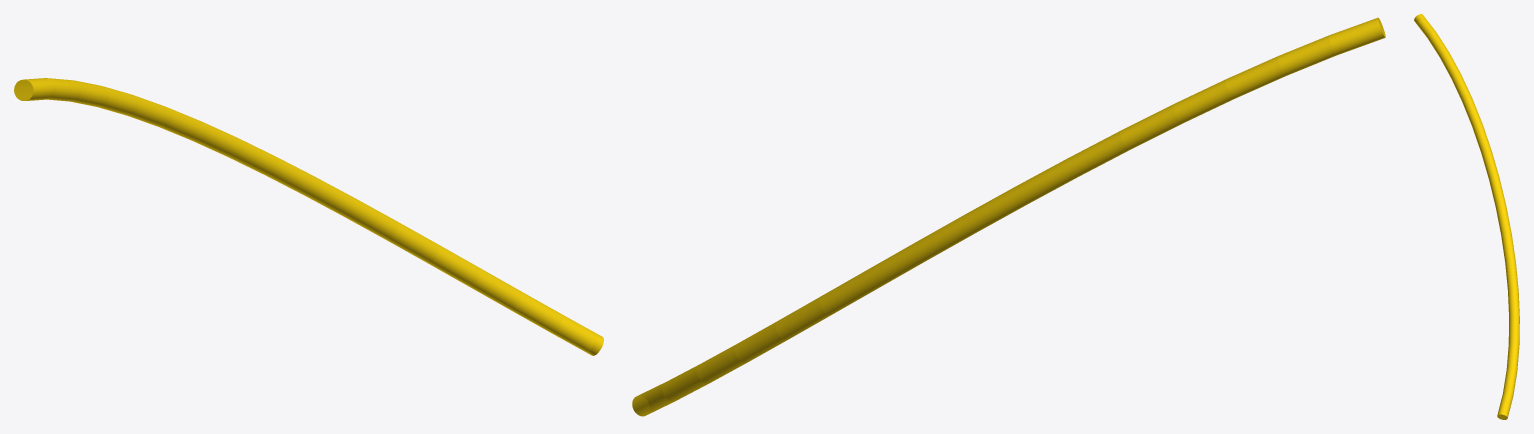
File: Event_421364160_track_70.fbx
The picture shows the model from 3 angles, left to right: view 1: azimuth 30°, elevation 25°; view 2: azimuth 150°, elevation 25°; view 3: azimuth 270°, elevation 25°; orthographic projection. The views are drawn at different scales.
Parts seen in each view (by area): view 1: Model; view 2: Model; view 3: Model.
Part boxes in pixels (<box>): Model: <box>14,78,603,355</box>; Model: <box>632,17,1385,416</box>; Model: <box>1414,14,1519,419</box>.
Size of the model in its own units: 1.43 by 1.01 by 0.3914.
